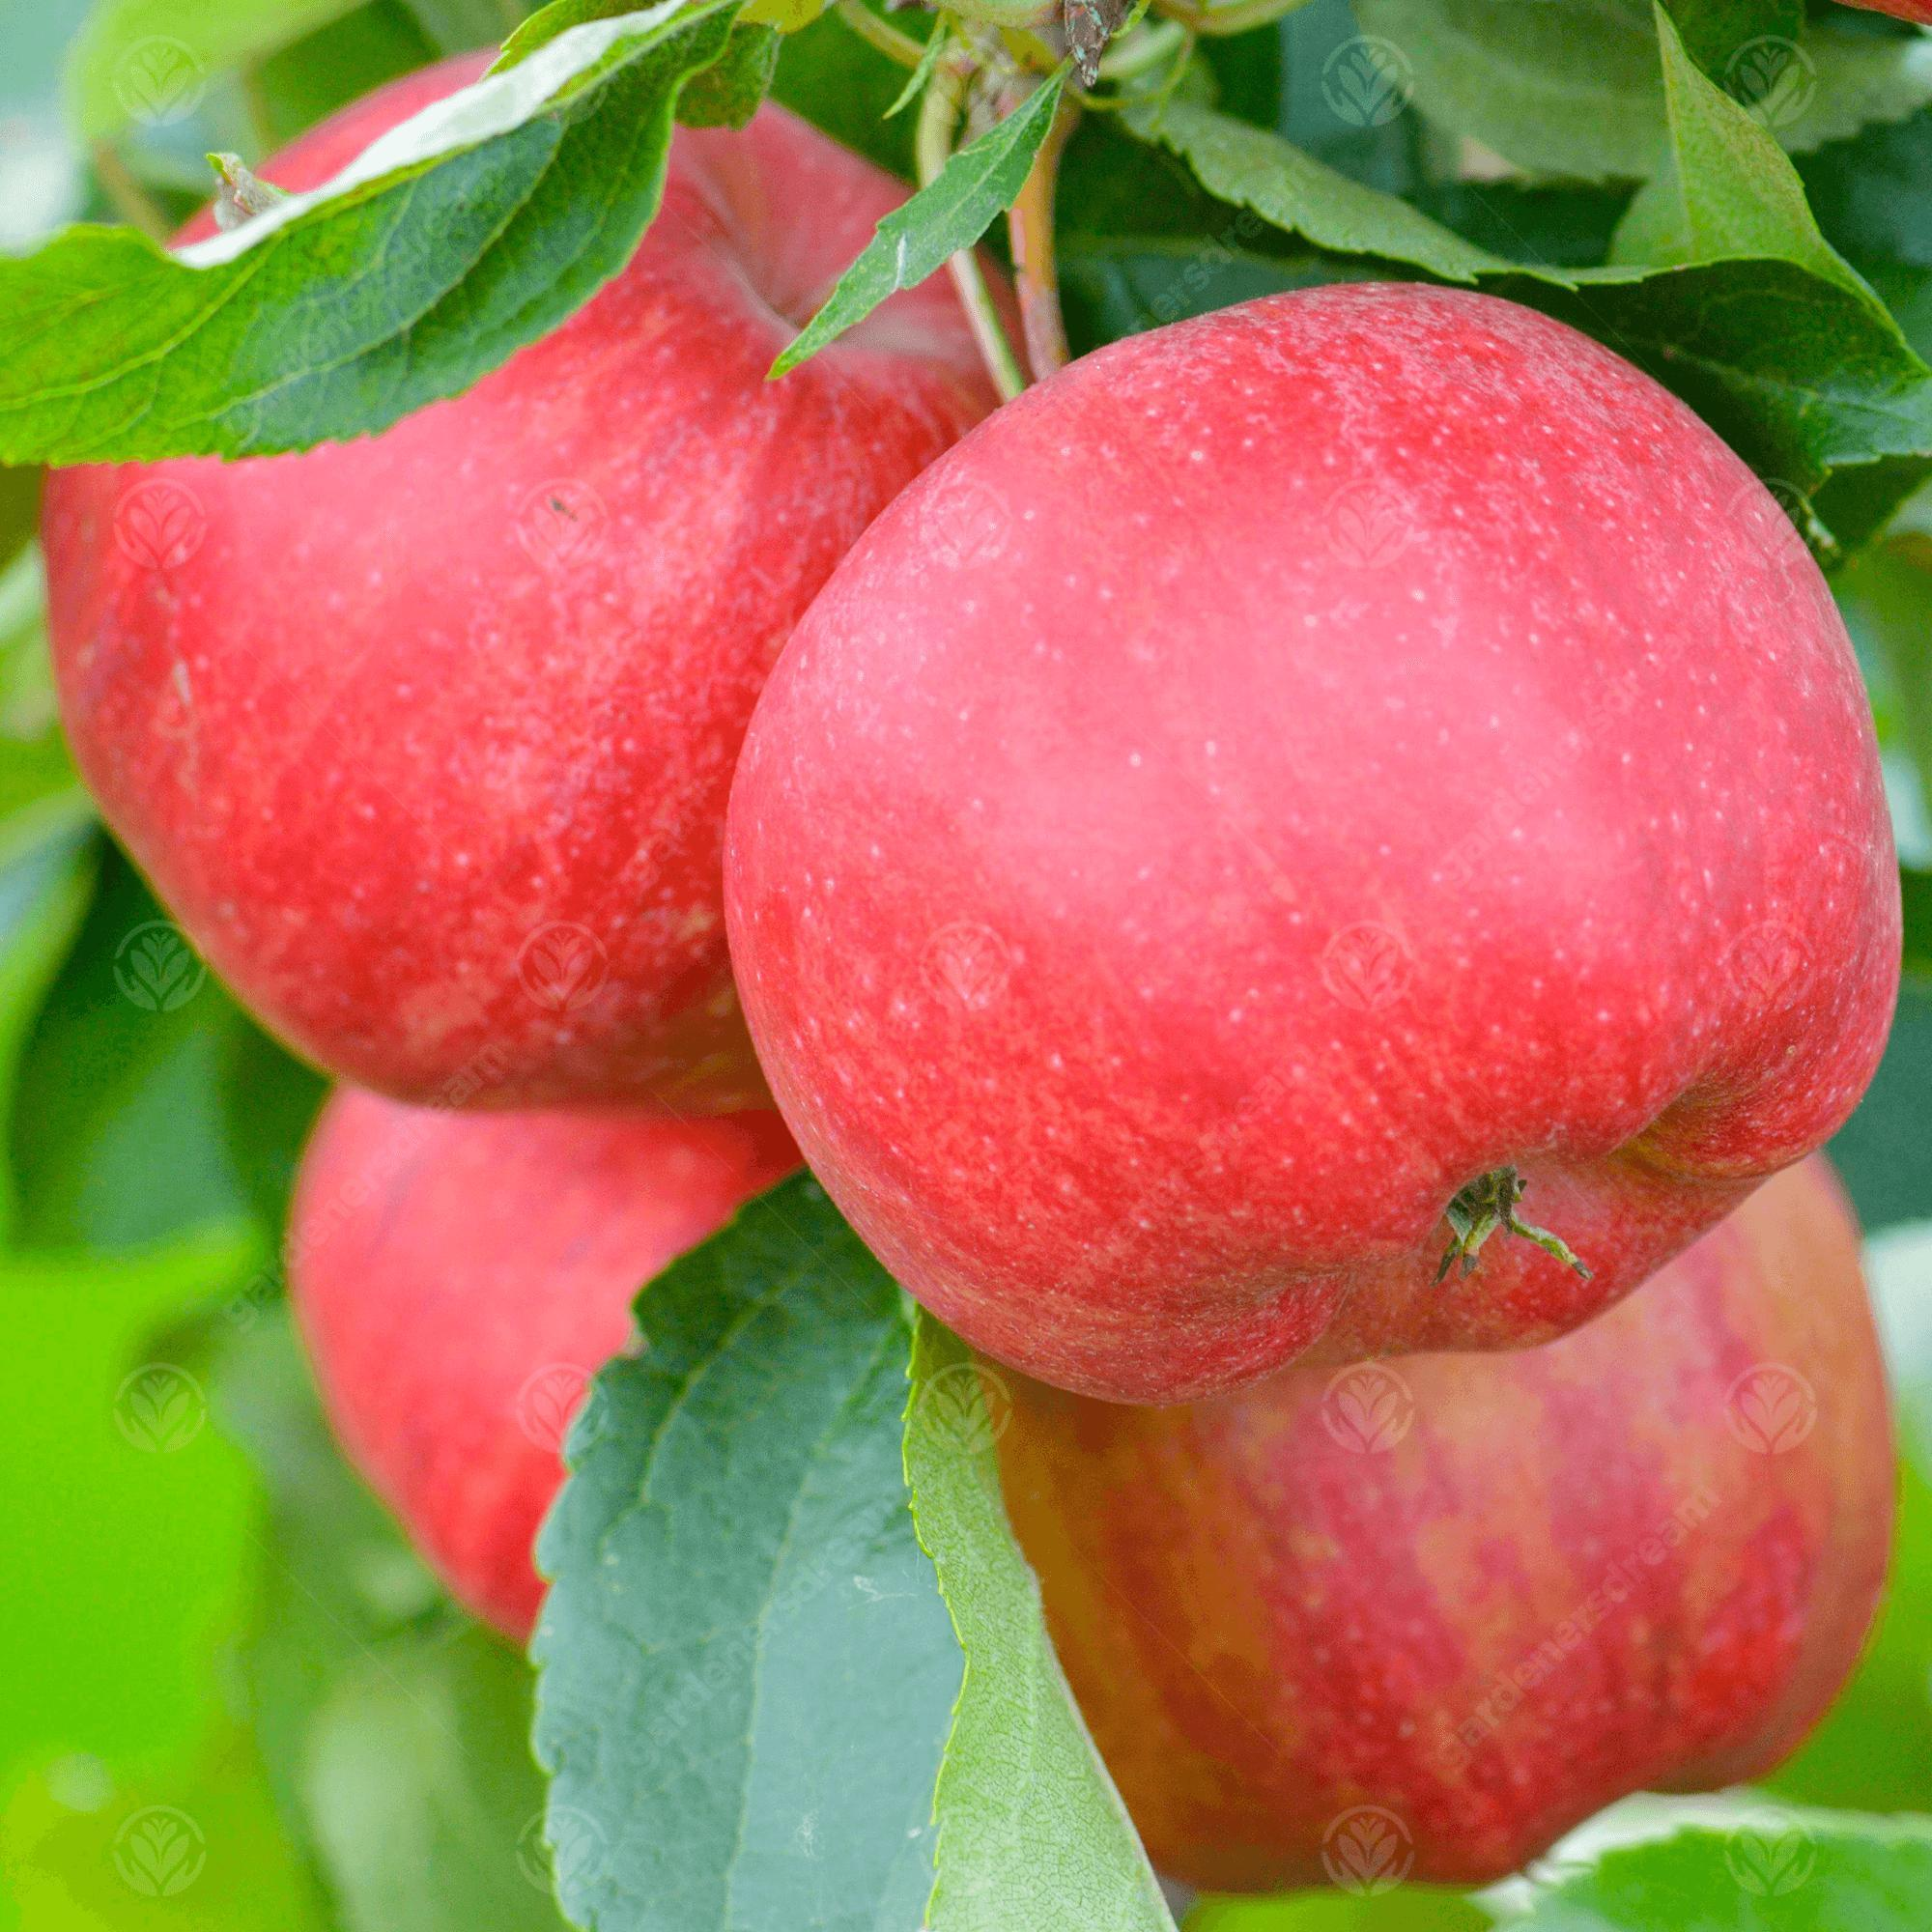apple: (708, 297, 1884, 1368), (48, 62, 1049, 1109), (973, 1138, 1905, 1893)
